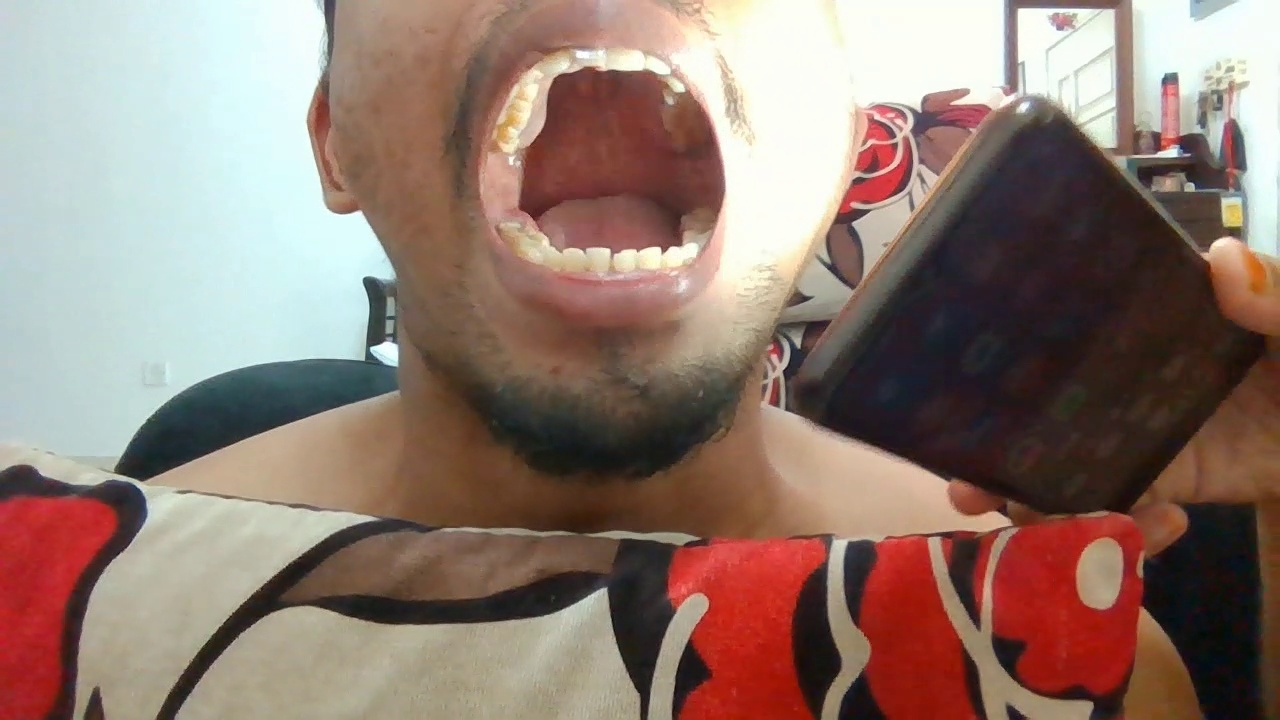1st Molar: (499, 110, 530, 128)
1st Premolar: (510, 83, 537, 98), (684, 242, 699, 262), (524, 250, 542, 266)
2nd Molar: (492, 126, 524, 142)
2nd Premolar: (503, 96, 530, 111)
3rd Molar: (679, 208, 715, 222), (496, 141, 518, 152), (498, 221, 522, 229)
Canine: (522, 62, 546, 86), (661, 246, 684, 269), (542, 246, 562, 271), (663, 76, 687, 94)
Central Incisor: (607, 48, 645, 71), (585, 246, 613, 276), (572, 48, 607, 69), (613, 248, 638, 272)
Lateral Incisor: (543, 49, 572, 73), (562, 246, 585, 275), (646, 51, 671, 76), (639, 246, 663, 271)
